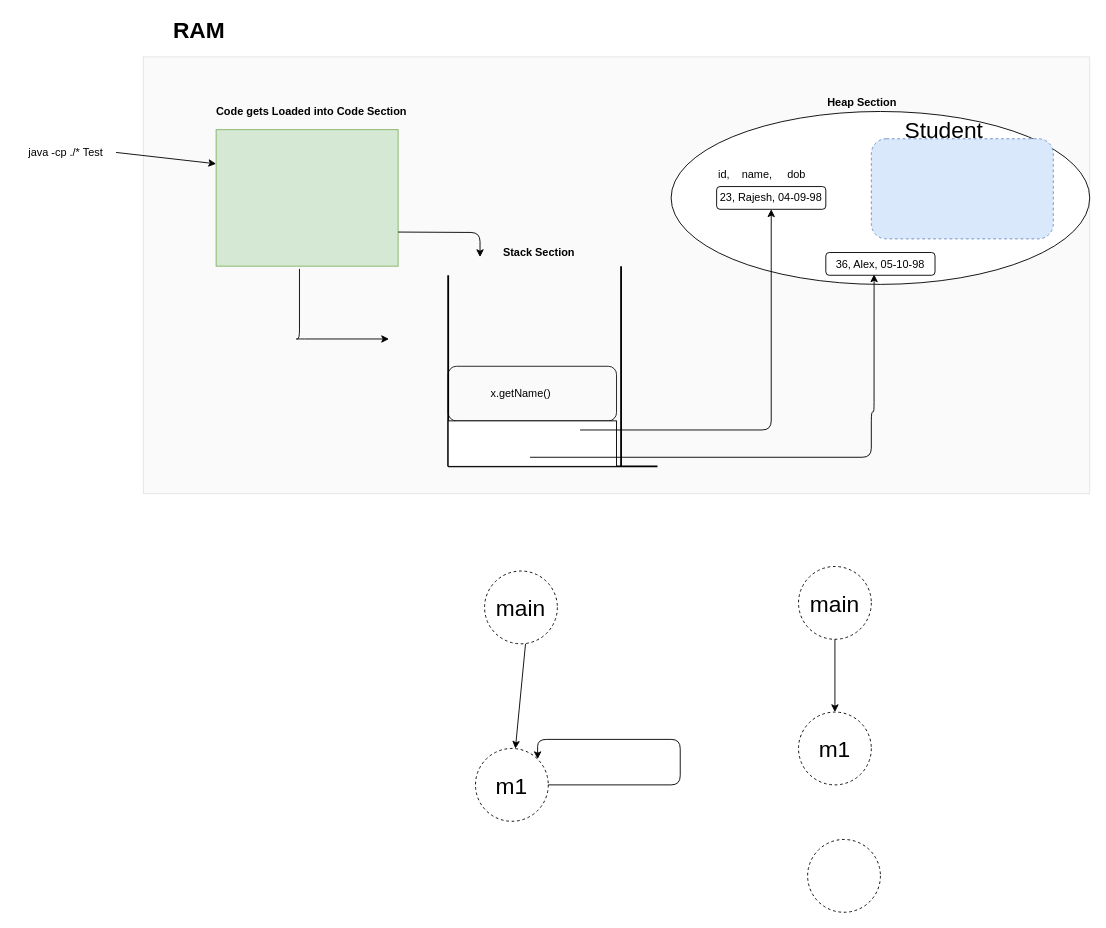
Some shapes in this 1106 by 928 pixel diagram are drawn without their labels. The shapes that lost their labels are listed below. From the top down, each one's centre as x and y in pixels, then its label:
At point (306, 197): "class Test { ---- ------main(){ - - - - - - - - - - } ------ ------ ------ }".
At point (961, 188): "static int count=5 static getCount()".
At point (532, 443): "main - a, x, y,".
At point (843, 875): "m2".
